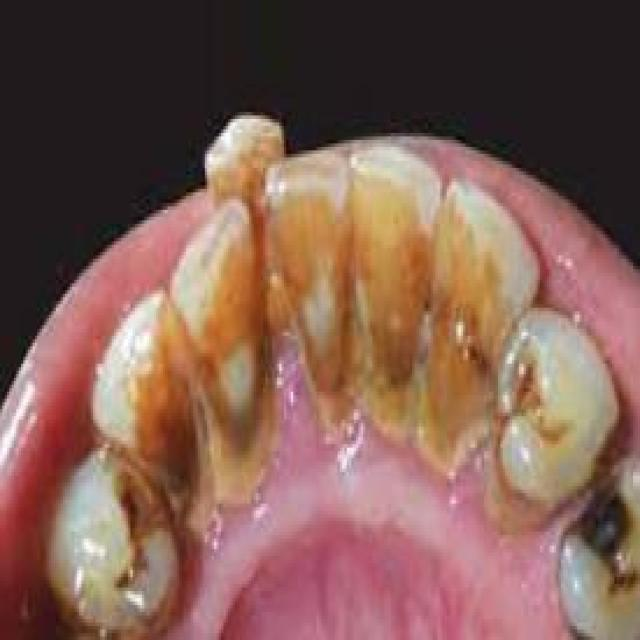caries: (558, 465, 640, 605), (96, 482, 160, 593), (498, 354, 569, 446)
